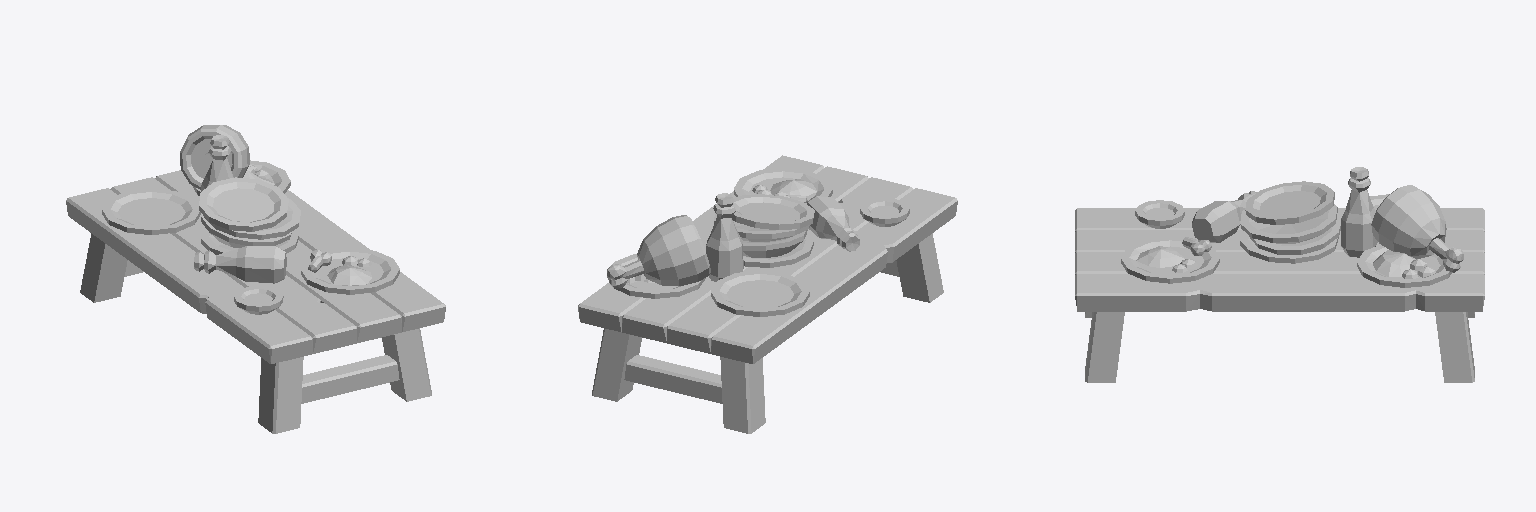
The model's file is table_long_decorated_A.obj.
3 renders of one model, left to right at view 1: azimuth 30°, elevation 25°; view 2: azimuth 150°, elevation 25°; view 3: azimuth 270°, elevation 25°, orthographic.
Visible parts, largest first — view 1: table_long_decorated_A_Cube.14540; view 2: table_long_decorated_A_Cube.14540; view 3: table_long_decorated_A_Cube.14540.
Boxes of the visible parts, x1,y1,x2,y2 form: table_long_decorated_A_Cube.14540: [66, 125, 445, 433]; table_long_decorated_A_Cube.14540: [578, 155, 957, 433]; table_long_decorated_A_Cube.14540: [1075, 167, 1484, 382].
Size of the model in its own units: 2.06 by 1.89 by 4.